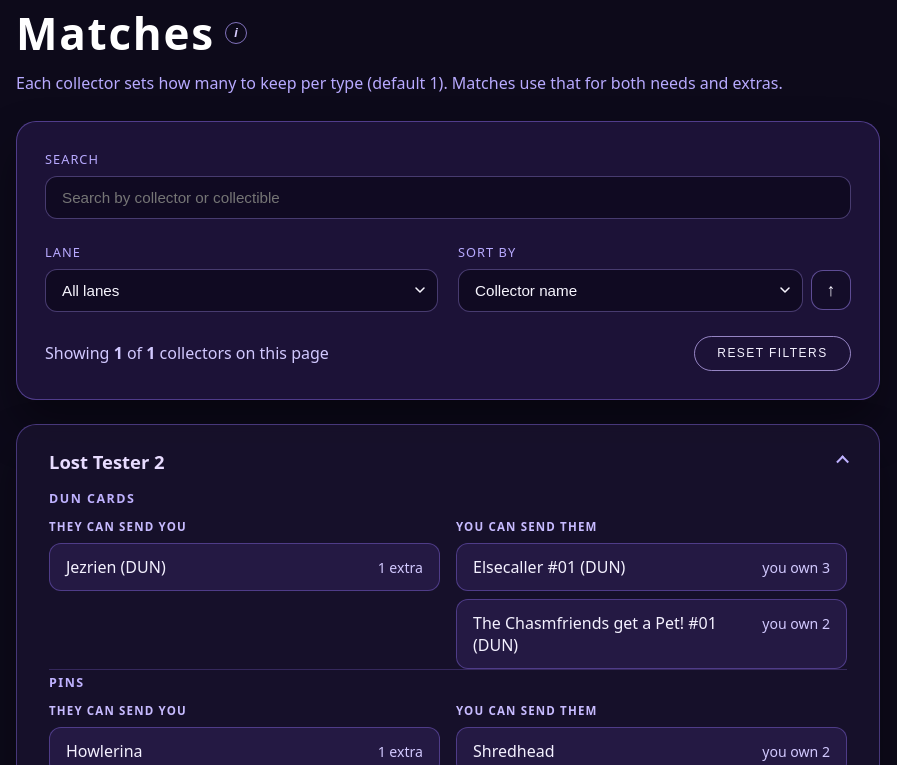
Scenario: MatchesPage › exposes matching help copy from an info bubble next to the heading
This screenshot has width=897, height=765.
Click the button named "How matching works".
click(236, 33)  # box [225, 22, 247, 44]
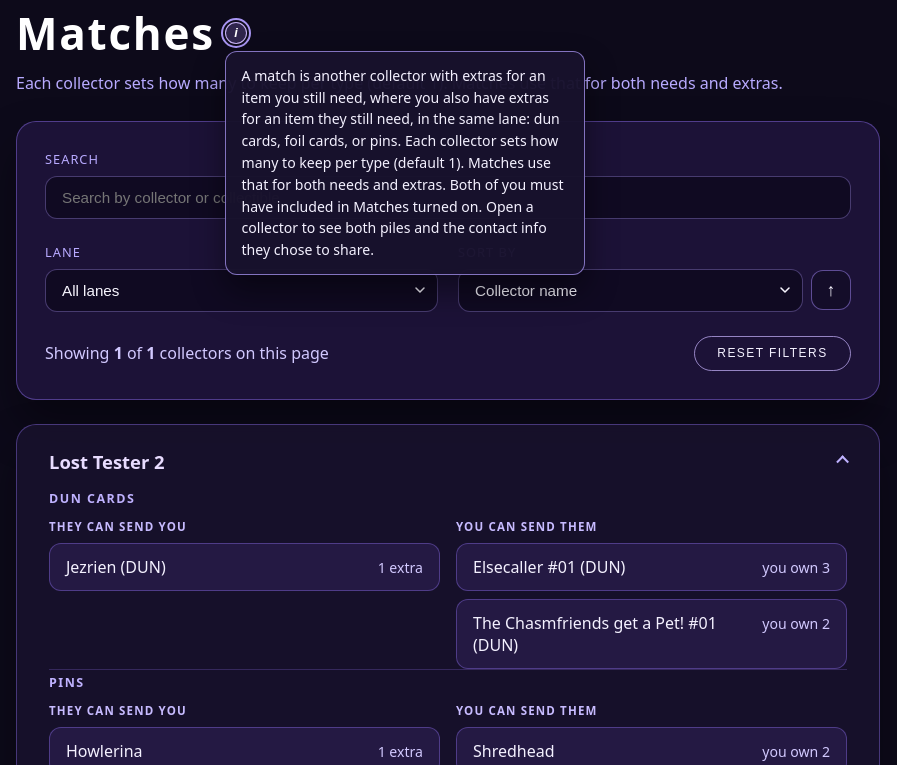
Result: the text "A match is another collector with extras for an item you still need, where you also have extras for an item they still n" is shown at [242, 66, 564, 259]
